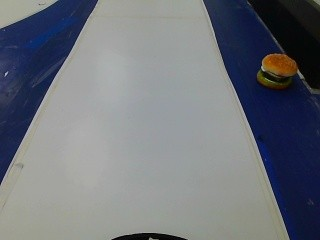burger: (254, 50, 301, 94)
